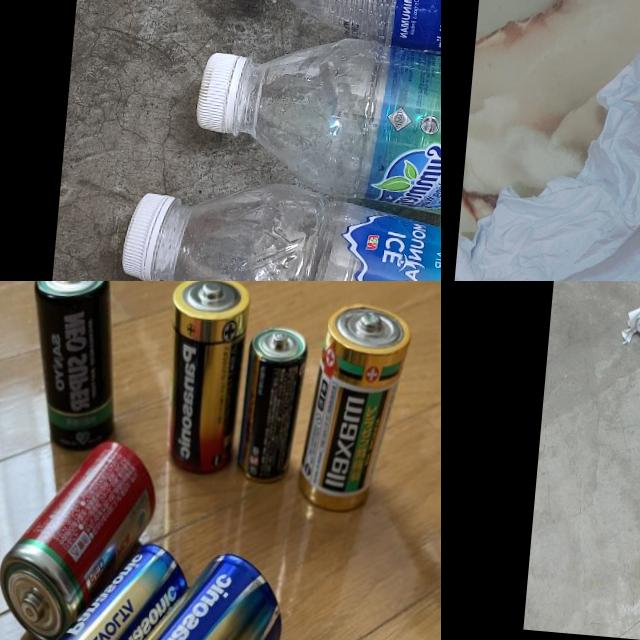bateria: (0, 433, 163, 640), (295, 297, 411, 524), (81, 541, 290, 640), (154, 281, 252, 483), (18, 281, 132, 453), (30, 532, 190, 640), (232, 322, 312, 492)
garrafa plástica: (222, 26, 441, 239), (153, 175, 441, 281), (270, 0, 441, 63)
papel: (441, 24, 640, 281)
tampa plástica: (117, 188, 178, 281), (193, 50, 247, 136)
